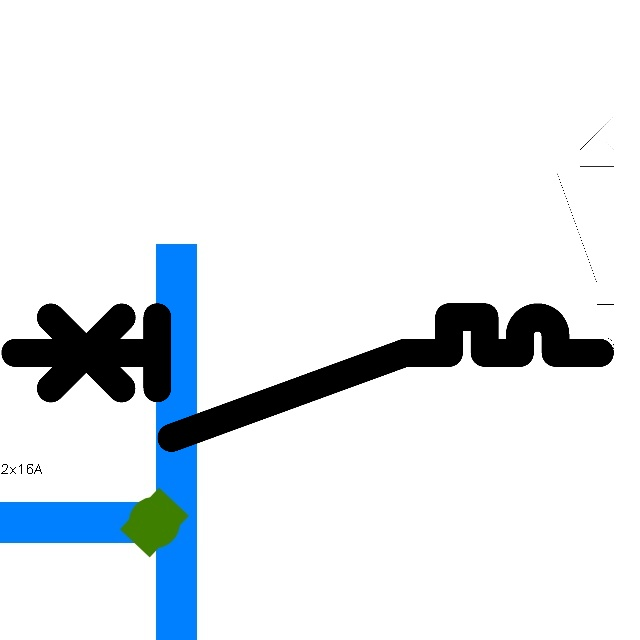interruptor_termomagnetico: (0, 302, 615, 452), (550, 92, 621, 383)
